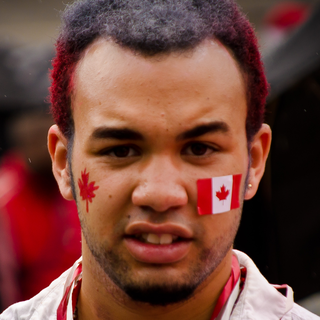eye: (95, 139, 145, 164), (178, 136, 225, 162)
